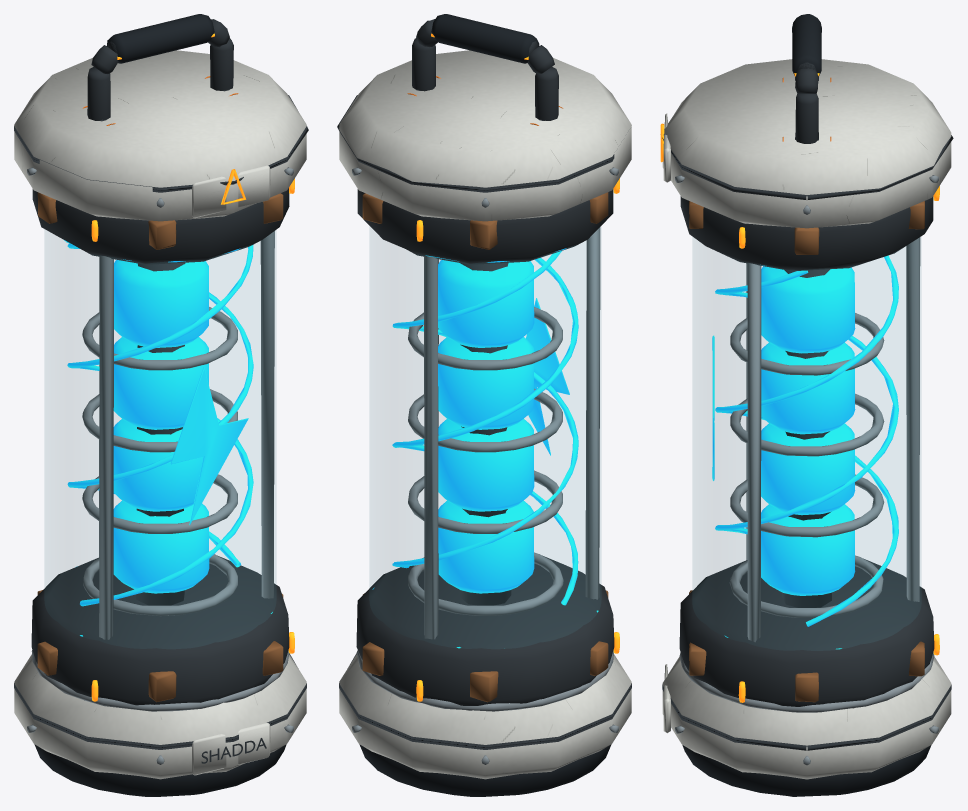
Rendered from shadda_power_cell.glb.
3 renders of one model, left to right at view 1: azimuth 30°, elevation 25°; view 2: azimuth 150°, elevation 25°; view 3: azimuth 270°, elevation 25°, orthographic.
Parts seen in each view (by area): view 1: CELL_TransparentShell, CELL_LowerArmor, CELL_LowerCollar, CELL_DockContact, CORE_Level_04, CORE_Level_01, CORE_Level_03, CORE_Level_02, CELL_BottomRubber, CORE_EnergySymbol, CELL_CollarCatch_29_0, CellHandle_Bar_0 (+9 smaller); view 2: CELL_TransparentShell, CELL_LowerArmor, CELL_LowerCollar, CELL_DockContact, CORE_Level_04, CORE_Level_02, CORE_Level_01, CORE_Level_03, CELL_BottomRubber, CELL_CollarCatch_29_0, CellHandle_Bar_0, CellHandle_Grip (+8 smaller); view 3: CELL_TransparentShell, CELL_LowerArmor, CELL_LowerCollar, CELL_DockContact, CORE_Level_04, CORE_Level_01, CORE_Level_02, CORE_Level_03, CELL_BottomRubber, CELL_CollarCatch_29_0, CORE_Helix_0, CORE_Helix_1 (+8 smaller).
Boxes of the visible parts, x1,y1,x2,y2 form: CELL_TransparentShell: (45,230,275,648); CELL_LowerArmor: (14,50,306,779); CELL_LowerCollar: (14,95,308,749); CELL_DockContact: (27,167,293,764); CORE_Level_04: (114,260,208,347); CORE_Level_01: (113,501,209,593); CORE_Level_03: (113,337,208,429); CORE_Level_02: (113,419,203,511); CELL_BottomRubber: (34,744,286,796); CORE_EnergySymbol: (170,367,248,524); CELL_CollarCatch_29_0: (37,192,283,702); CellHandle_Bar_0: (87,19,233,121); CELL_TransparentShell: (370,227,600,648); CELL_LowerArmor: (339,50,631,779); CELL_LowerCollar: (337,95,631,749); CELL_DockContact: (352,167,618,764); CORE_Level_04: (438,260,534,347); CORE_Level_02: (438,418,534,511); CORE_Level_01: (438,500,534,593); CORE_Level_03: (438,337,534,429); CELL_BottomRubber: (359,744,611,796); CELL_CollarCatch_29_0: (362,192,608,702); CellHandle_Bar_0: (412,19,558,120); CellHandle_Grip: (431,14,539,63); CELL_TransparentShell: (693,237,920,650); CELL_LowerArmor: (662,59,951,779); CELL_LowerCollar: (662,121,953,750); CELL_DockContact: (675,175,938,765); CORE_Level_04: (761,266,855,353); CORE_Level_01: (761,504,855,595); CORE_Level_02: (761,423,855,515); CORE_Level_03: (761,342,855,434); CELL_BottomRubber: (682,745,931,796); CELL_CollarCatch_29_0: (689,201,924,702); CORE_Helix_0: (715,255,898,626); CORE_Helix_1: (715,270,898,534).
Size of the model in its own units: 0.0683 by 0.18 by 0.0666.
Materials: 10 (1 with a texture image).
